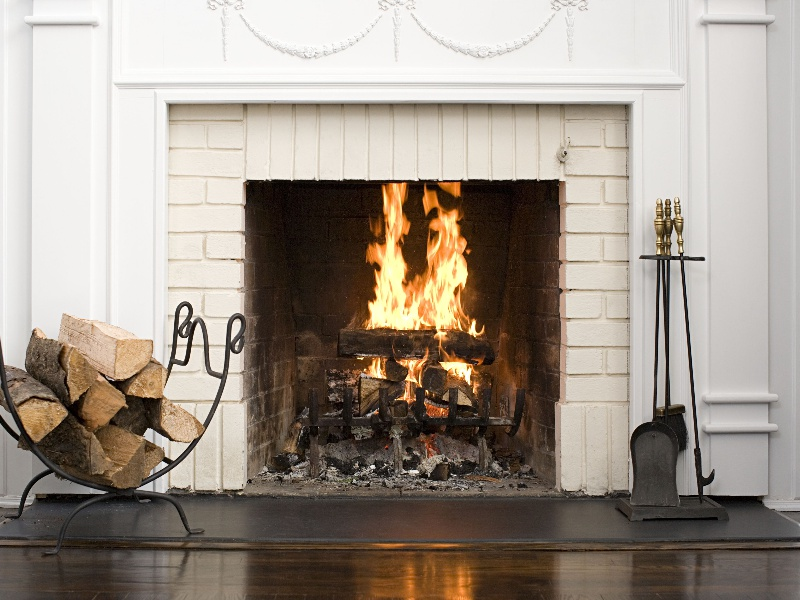fire: (364, 181, 472, 327), (402, 359, 427, 402), (442, 360, 479, 389), (358, 359, 390, 378)
